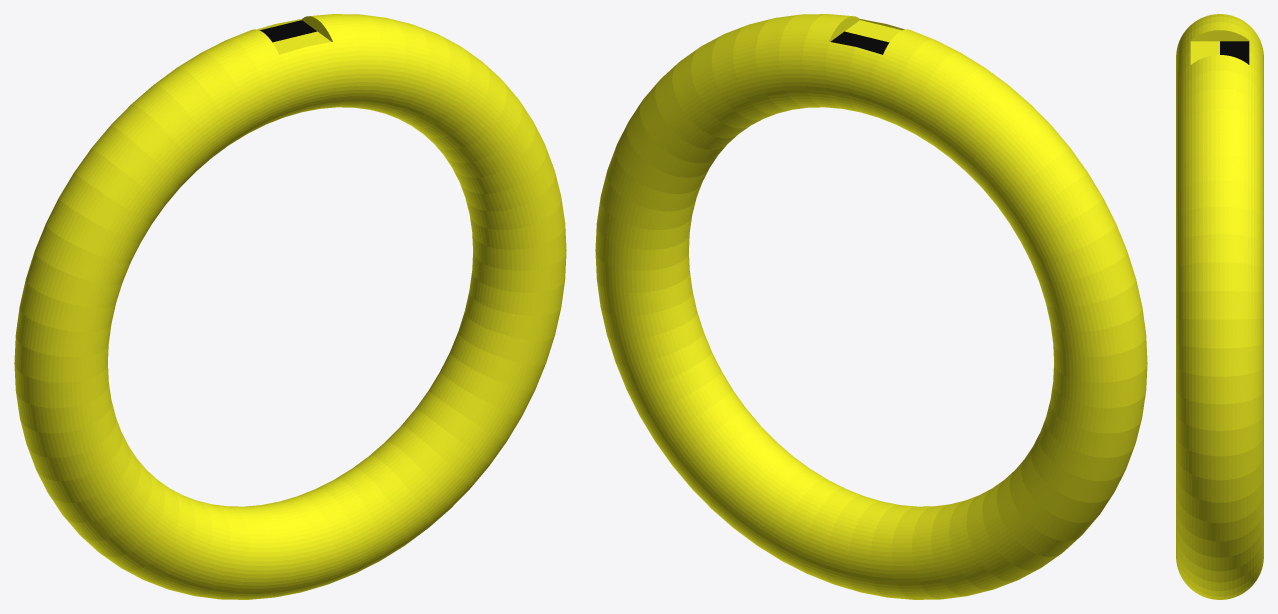
Rendered from next.dae.
The picture shows the model from 3 angles, left to right: view 1: azimuth 30°, elevation 25°; view 2: azimuth 150°, elevation 25°; view 3: azimuth 270°, elevation 25°; orthographic projection. The views are drawn at different scales.
Parts seen in each view (by area): view 1: skp88C4; view 2: skp88C4; view 3: skp88C4 (×2).
Boxes of the visible parts, box(x1,y1,x2,y2) form: skp88C4: box(14, 14, 566, 599); skp88C4: box(595, 14, 1147, 599); skp88C4 (×2): box(1176, 14, 1263, 599).
Size of the model in its own units: 1575 by 236 by 1571.
